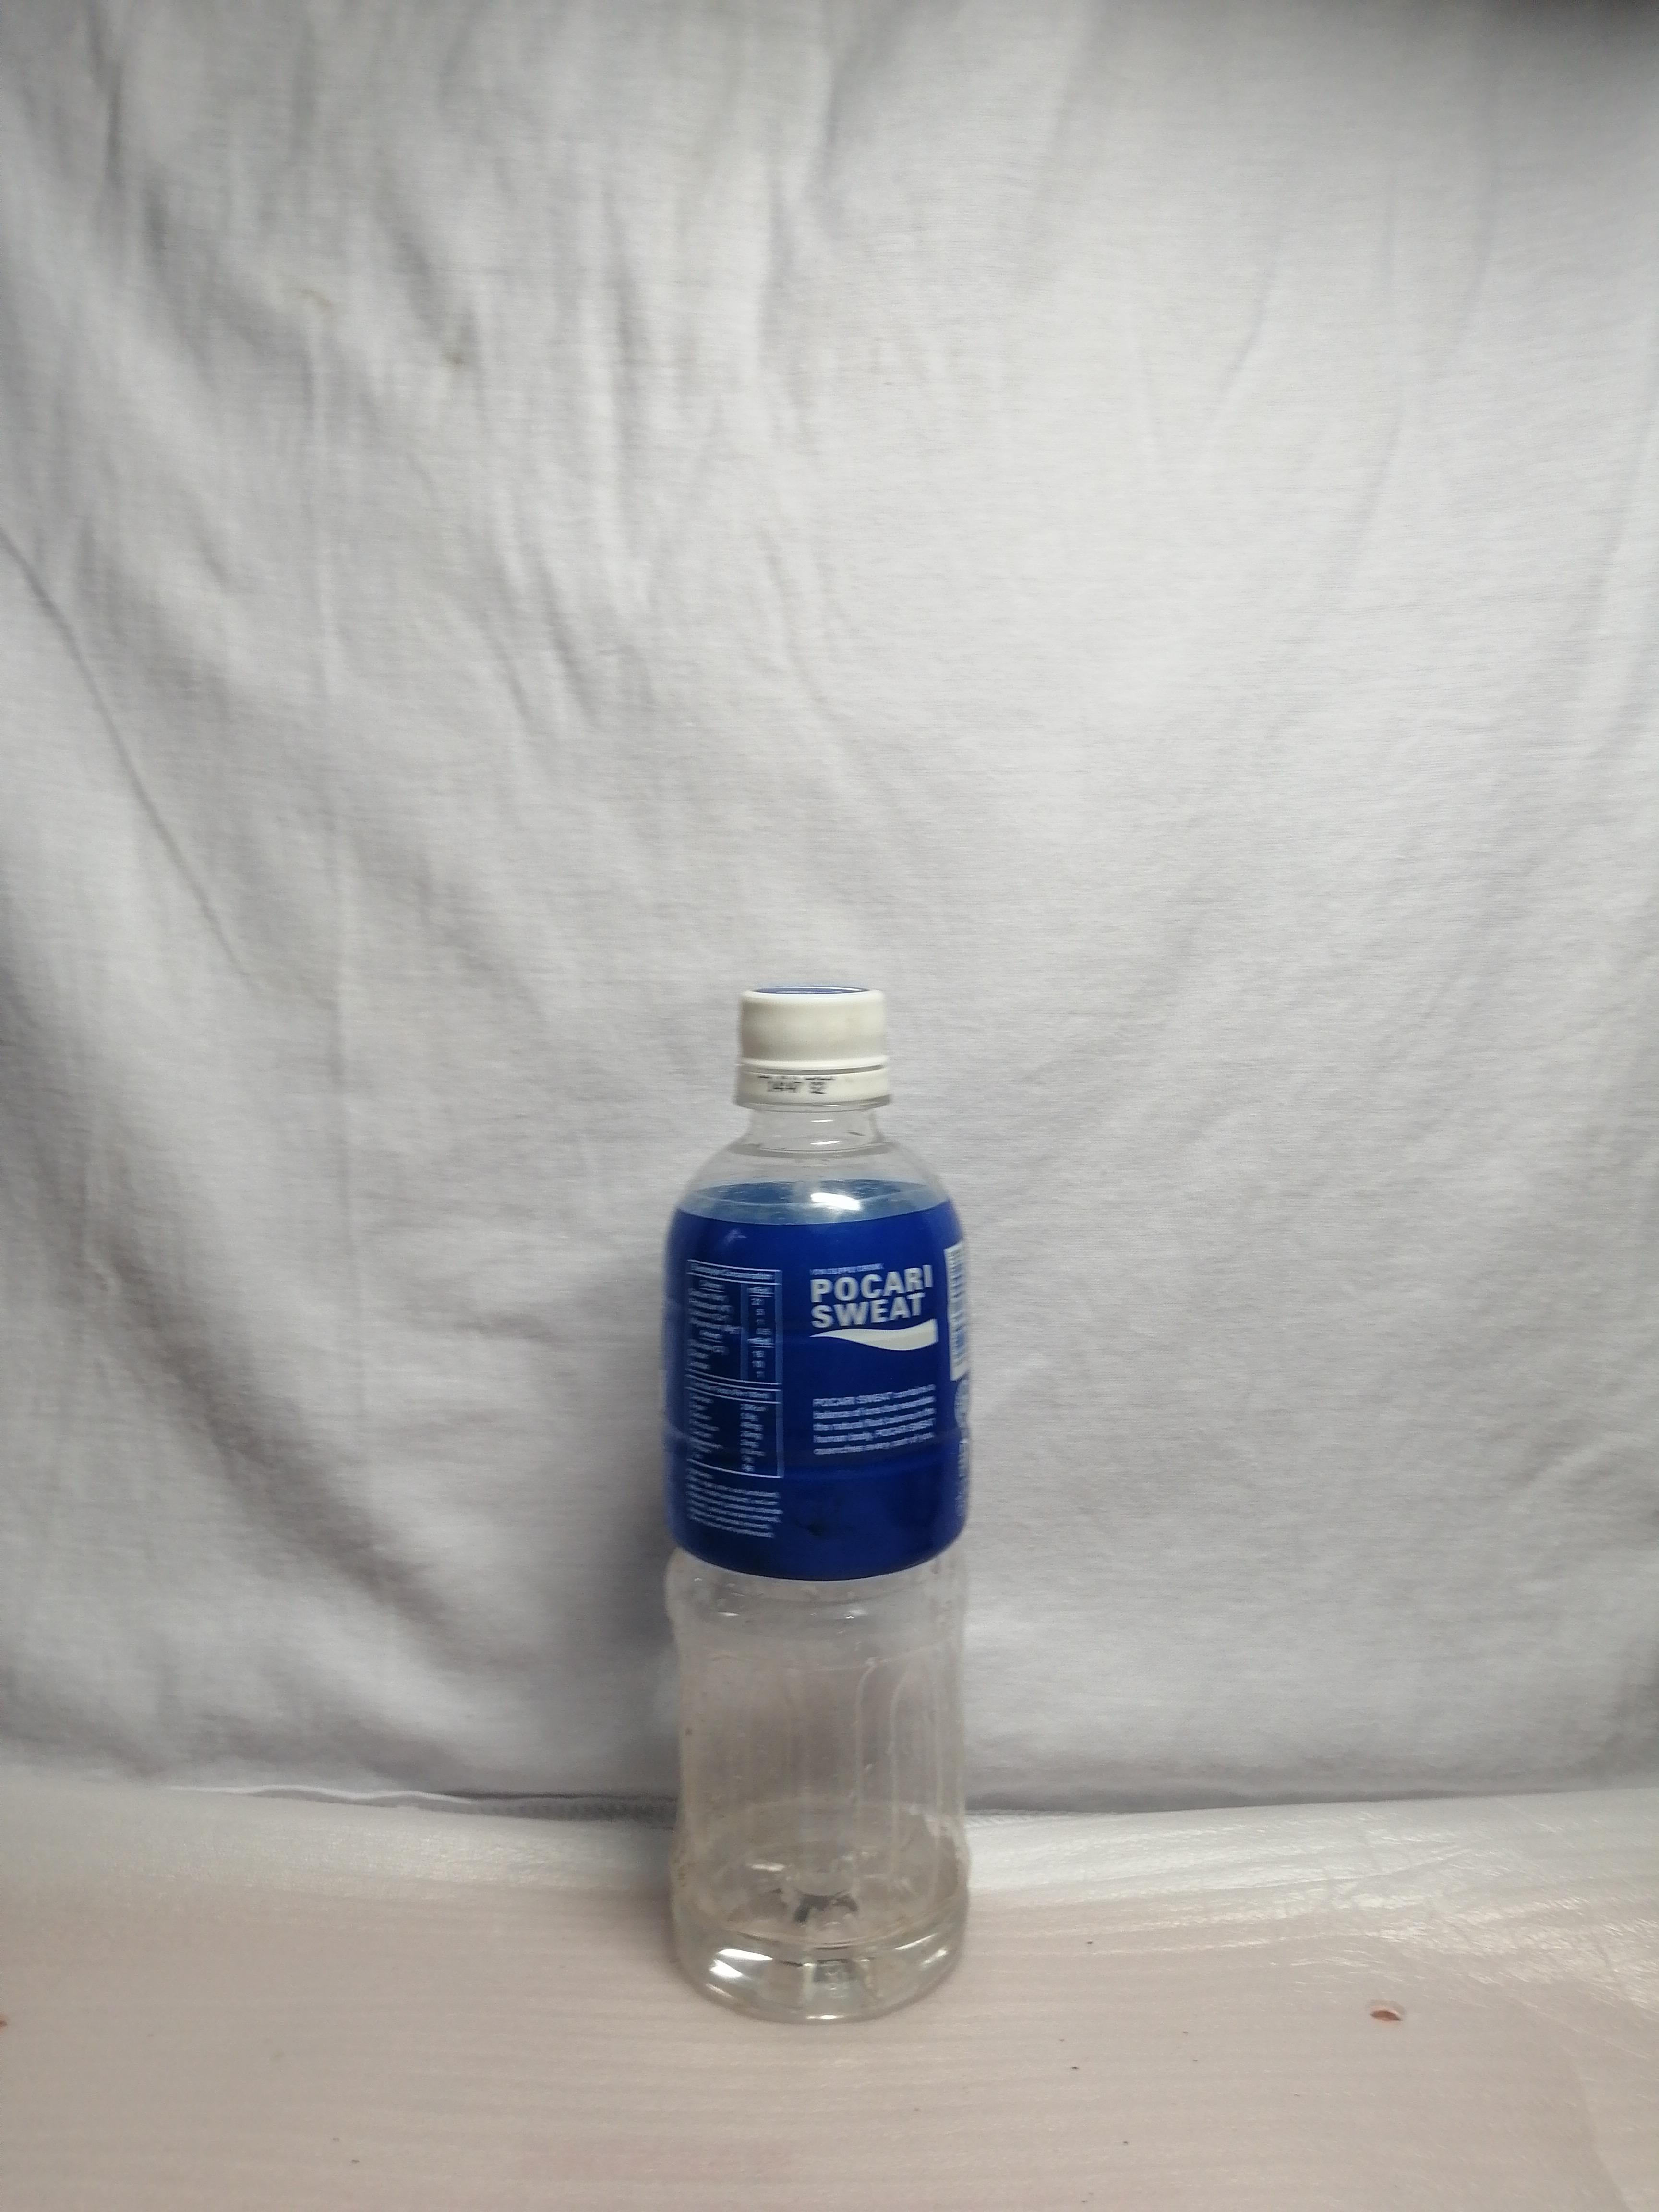plastic-bottle: (600, 955, 1022, 2040)
